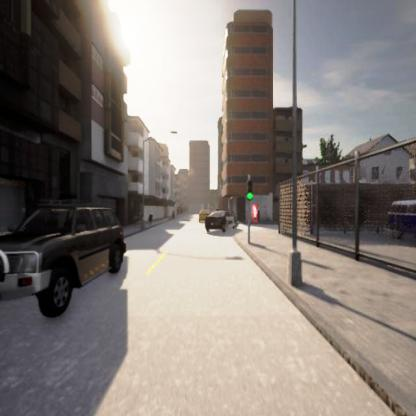vehicle: (1, 205, 128, 317), (205, 210, 234, 235), (198, 207, 211, 222)
